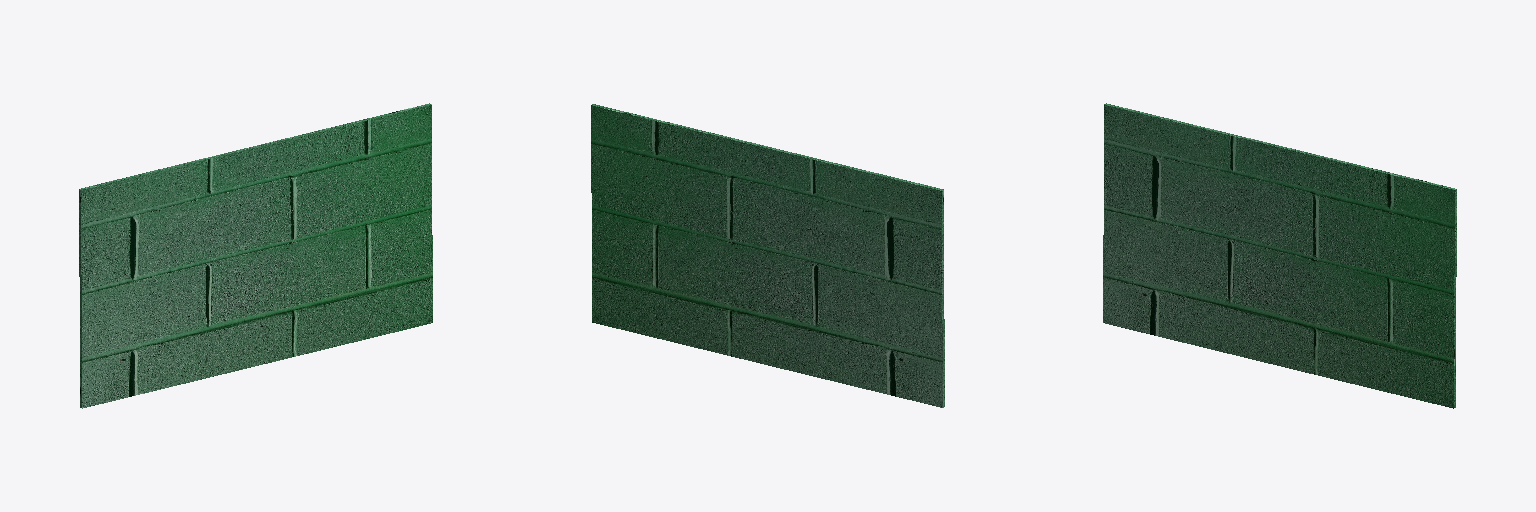
3 views of the same model, side by side, from view 1: azimuth 30°, elevation 25°; view 2: azimuth 150°, elevation 25°; view 3: azimuth 330°, elevation 25° (orthographic).
Parts seen in each view (by area): view 1: pCube5; view 2: pCube5; view 3: pCube5.
Boxes of the visible parts, box(x1,y1,x2,y2) form: pCube5: box(79, 103, 432, 408); pCube5: box(591, 104, 944, 407); pCube5: box(1103, 103, 1456, 408).
Bounding box in the file's own units: 17.39 × 10.32 × 0.2485.
1 materials, 1 textured.